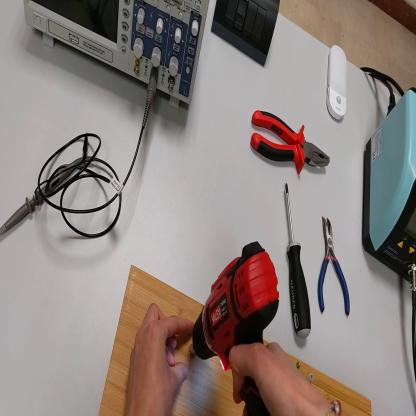electric screwdriver: (191, 241, 280, 416)
hand: (228, 340, 336, 415), (128, 300, 194, 414)
oscilloscope: (23, 1, 212, 113)
oscilloscope probe tip: (1, 155, 91, 236)
pliers: (251, 103, 331, 172), (319, 216, 353, 319)
screwdriver-: (284, 181, 313, 340)
welder station: (363, 90, 416, 291)
working area: (100, 271, 373, 415)
